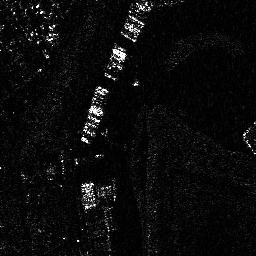ship: (102, 45, 127, 80)
